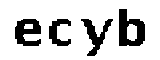b: (117, 4, 146, 51)
c: (46, 17, 77, 49)
e: (11, 15, 43, 48)
y: (78, 16, 115, 58)
